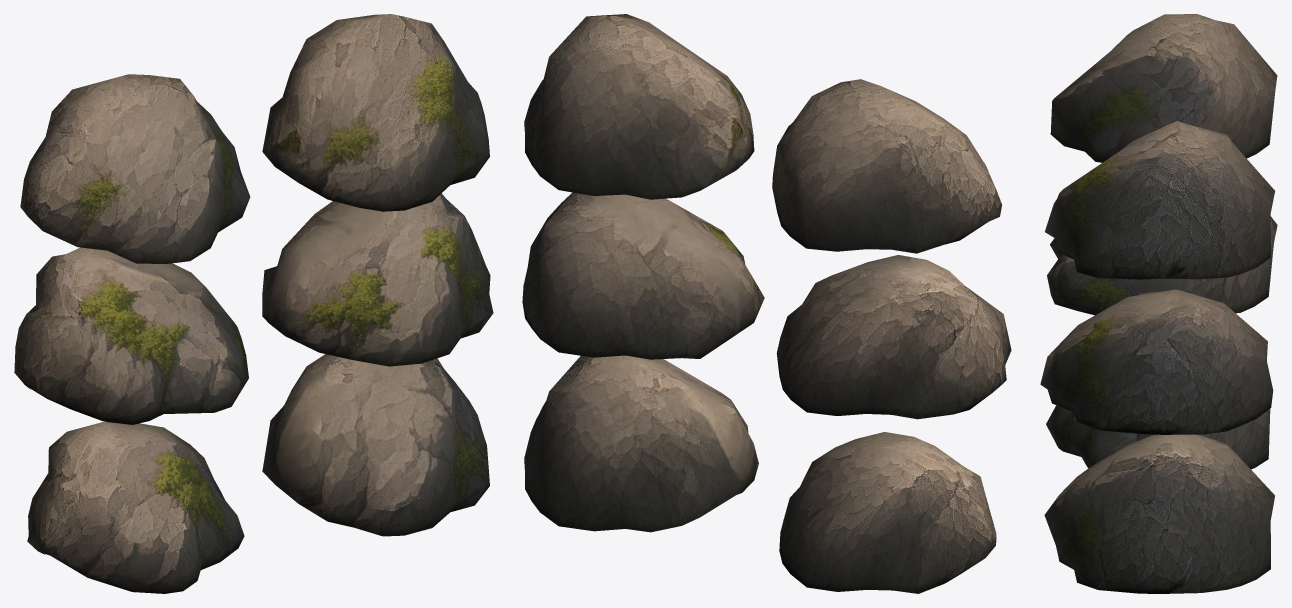
Rendered from Boulders.glb.
3 views of the same model, side by side, from view 1: azimuth 30°, elevation 25°; view 2: azimuth 150°, elevation 25°; view 3: azimuth 270°, elevation 25° (orthographic). The views are drawn at different scales.
Visible parts, largest first — view 1: Boulders_3, Boulders_4, Boulders_2, Boulders_1, Boulders_0, Boulders_5; view 2: Boulders_2, Boulders_3, Boulders_0, Boulders_1, Boulders_4, Boulders_5; view 3: Boulders_2, Boulders_3, Boulders_0, Boulders_4, Boulders_1, Boulders_5.
Boxes of the visible parts, x1,y1,x2,y2 form: Boulders_3: [262, 14, 489, 211]; Boulders_4: [20, 74, 250, 263]; Boulders_2: [262, 354, 489, 536]; Boulders_1: [14, 247, 248, 424]; Boulders_0: [262, 193, 493, 366]; Boulders_5: [27, 422, 244, 593]; Boulders_2: [524, 355, 758, 532]; Boulders_3: [524, 14, 754, 199]; Boulders_0: [522, 192, 764, 359]; Boulders_1: [776, 255, 1011, 419]; Boulders_4: [772, 79, 1001, 253]; Boulders_5: [779, 432, 996, 593]; Boulders_2: [1044, 434, 1274, 593]; Boulders_3: [1045, 121, 1274, 279]; Boulders_0: [1040, 289, 1273, 434]; Boulders_4: [1050, 14, 1277, 162]; Boulders_1: [1047, 216, 1277, 315]; Boulders_5: [1046, 405, 1270, 469].
Bounding box in the file's own units: 0.9995 × 0.9897 × 0.48.
Materials: 1 (1 with a texture image).
